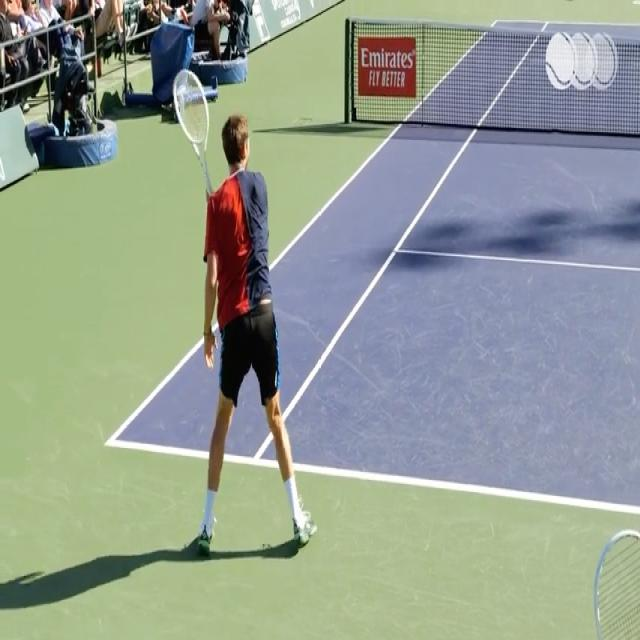forehand-finish: (167, 68, 318, 561)
